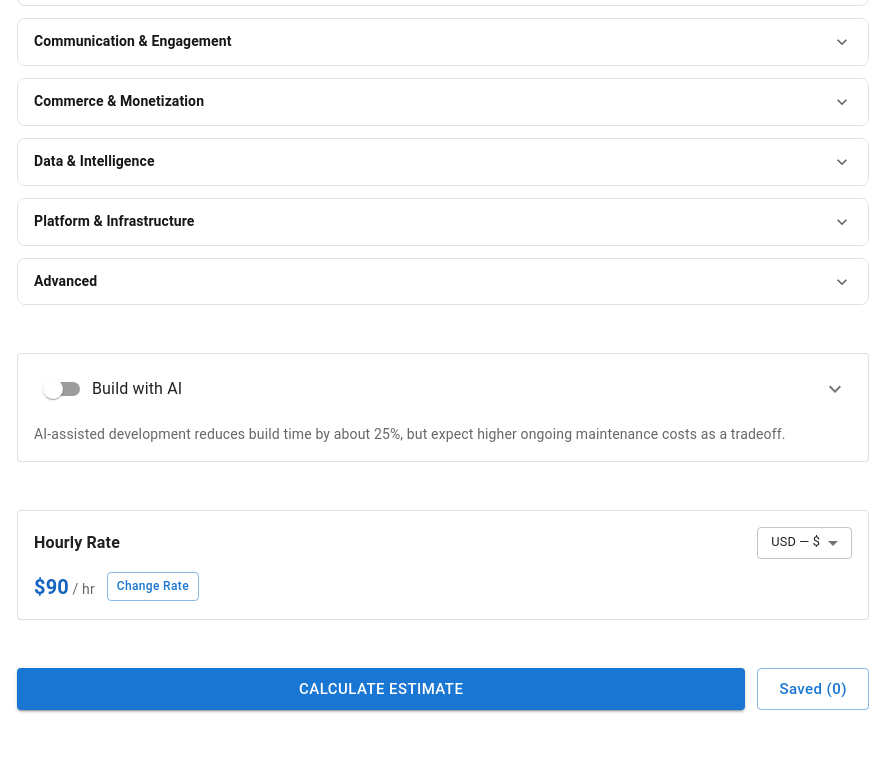
Scenario: CostEstimator › calculate flow › 'Estimated Development Cost' label is visible after calculation
(page scrolled)
Click the button "Calculate Estimate". click: (381, 689)
box: [17, 668, 745, 710]
(page scrolled)
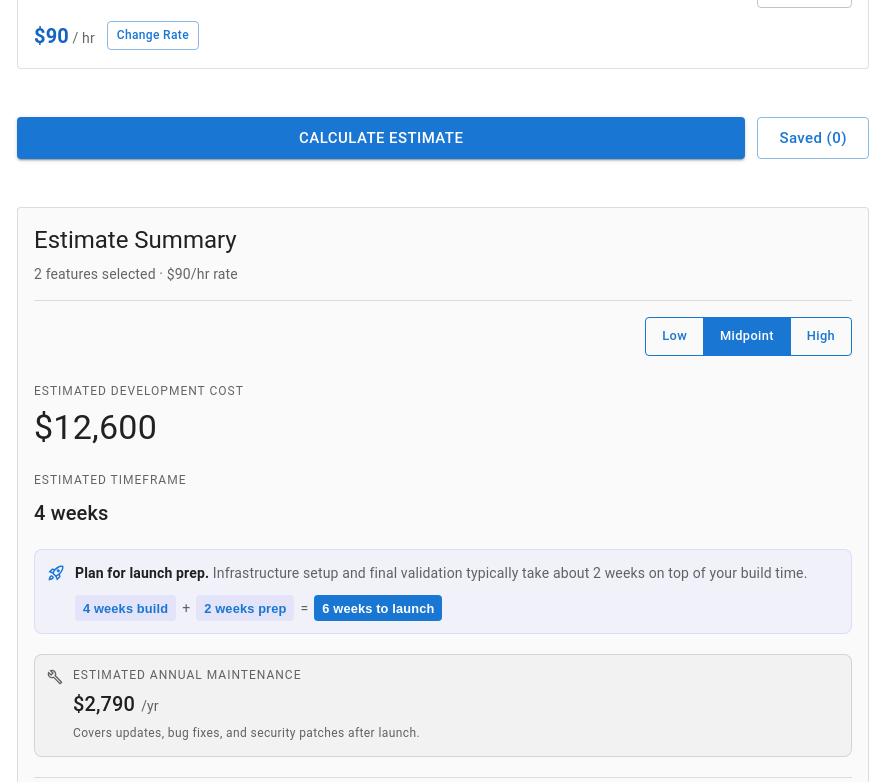
Check: the text "Estimated Development Cost" is shown, box [34, 384, 244, 398]
